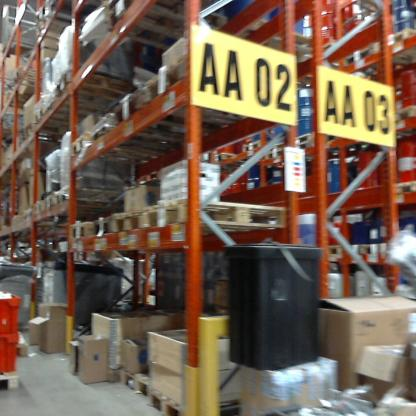pallet: (144, 56, 284, 132), (142, 196, 291, 242), (104, 73, 201, 140), (106, 2, 229, 50), (228, 21, 335, 69), (86, 113, 178, 161), (69, 128, 159, 177), (32, 97, 116, 148), (144, 375, 240, 416), (50, 68, 141, 101), (53, 184, 132, 214), (337, 40, 398, 78), (110, 194, 149, 237), (41, 3, 95, 33), (11, 60, 48, 100), (379, 26, 413, 68), (114, 362, 151, 399), (94, 205, 117, 244), (389, 176, 413, 207), (287, 137, 322, 158), (33, 193, 57, 222), (2, 364, 25, 394), (384, 100, 413, 123), (70, 217, 97, 241), (11, 327, 32, 357), (295, 126, 328, 145), (210, 156, 250, 171), (235, 137, 266, 156), (264, 141, 291, 160), (101, 3, 129, 17), (256, 153, 285, 166)
small_load_carrier: (2, 289, 31, 343), (0, 335, 31, 376)
